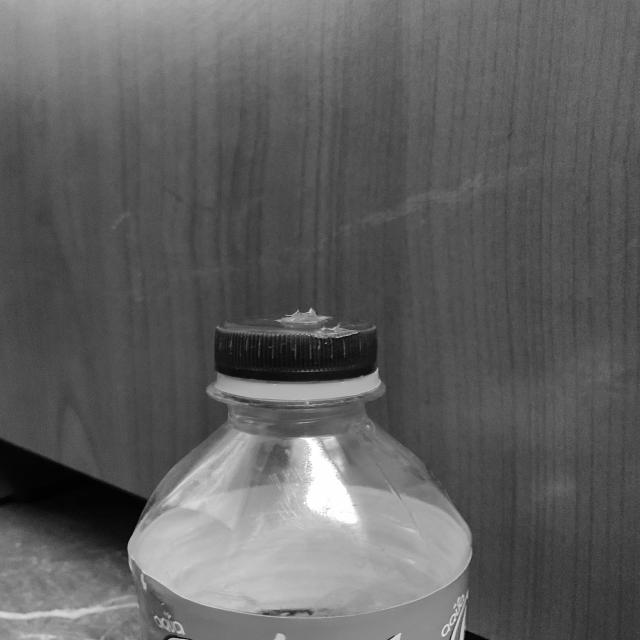Good-cap-Df0S: (207, 309, 390, 405)
